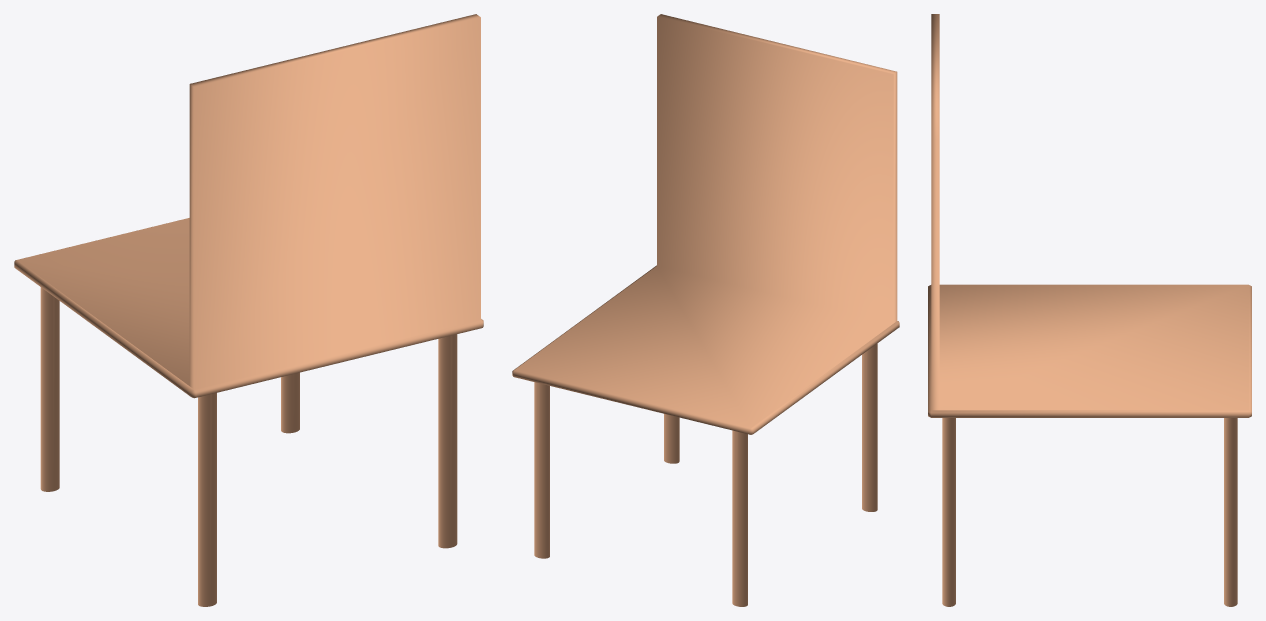
Rendered from Chaise.fbx.
3 views of the same model, side by side, from view 1: azimuth 30°, elevation 25°; view 2: azimuth 150°, elevation 25°; view 3: azimuth 270°, elevation 25° (orthographic). The views are drawn at different scales.
Parts seen in each view (by area): view 1: ChaiseProfesseur; view 2: ChaiseProfesseur; view 3: ChaiseProfesseur.
Part boxes in pixels (<box>): ChaiseProfesseur: <box>14,14,483,606</box>; ChaiseProfesseur: <box>512,14,899,606</box>; ChaiseProfesseur: <box>928,14,1251,606</box>.
Size of the model in its own units: 297 by 514 by 318.
